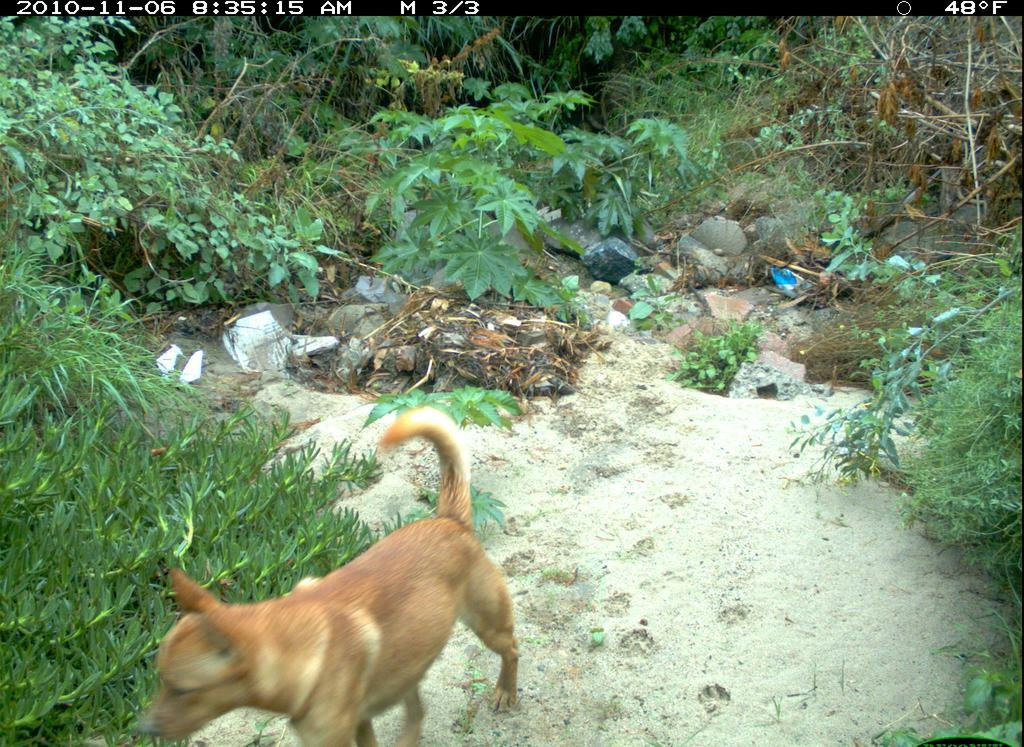dog: (123, 402, 525, 747)
